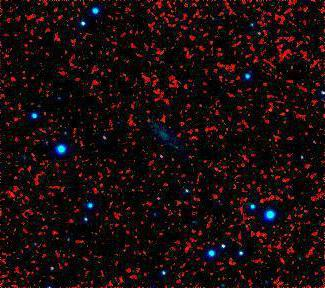star: (252, 95, 282, 125)
